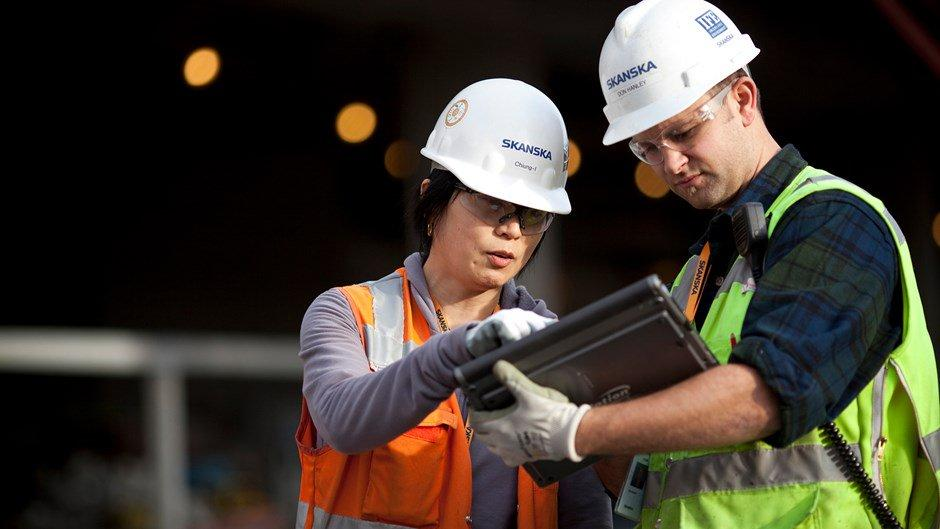helmet: (596, 1, 757, 147), (425, 77, 585, 214)
